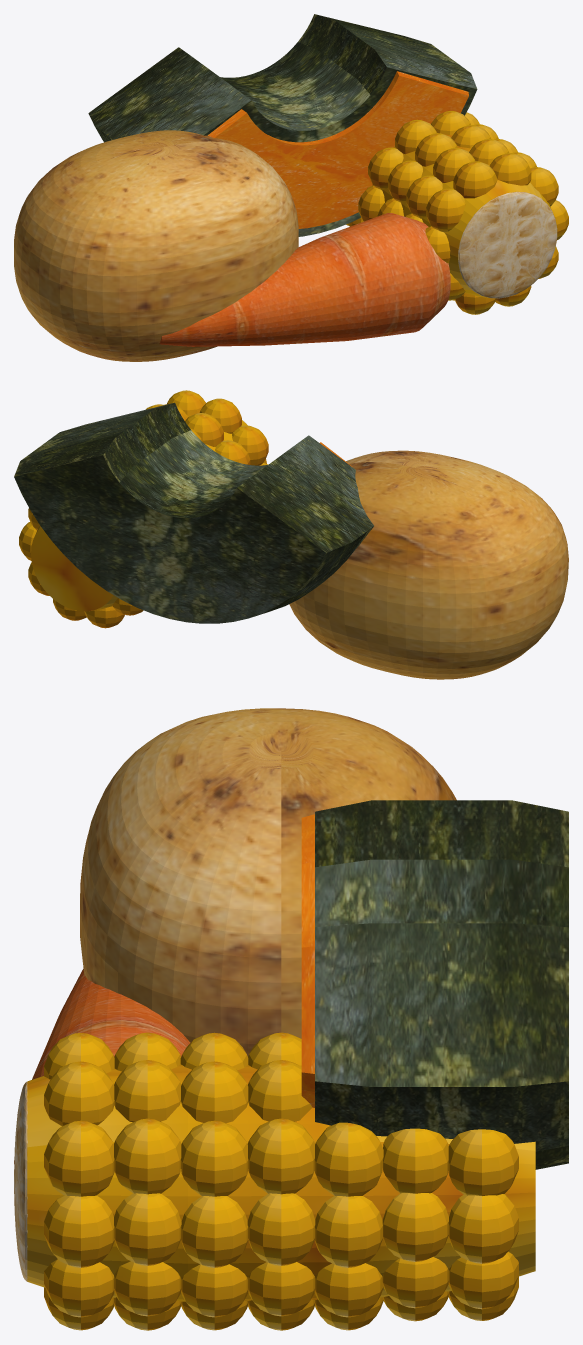
Rendered from vegetables.obj.
3 views of the same model, one above another, from view 1: azimuth 30°, elevation 25°; view 2: azimuth 150°, elevation 25°; view 3: azimuth 270°, elevation 25° (orthographic). The views are drawn at different scales.
Visible parts, largest first — view 1: potato, squash_rind, carrot, squash_flesh, corn_end, corn, kernel_0_4, kernel_0_3, kernel_0_2, kernel_1_4, kernel_3_4, kernel_2_4 (+11 smaller); view 2: squash_rind, potato, corn, kernel_0_4, kernel_0_3, kernel_1_3, kernel_0_2, kernel_6_7, kernel_1_4, kernel_6_0; view 3: squash_rind, potato, corn, carrot, kernel_0_1, kernel_1_1, kernel_4_1, kernel_2_1, kernel_3_1, kernel_0_0, kernel_4_0, kernel_6_0 (+30 smaller).
Boxes of the visible parts, x1,y1,x2,y2 form: potato: (14, 130, 298, 361); squash_rind: (88, 14, 477, 236); carrot: (159, 213, 450, 346); squash_flesh: (207, 71, 468, 228); corn_end: (458, 191, 557, 298); corn: (372, 134, 556, 297); kernel_0_4: (426, 188, 465, 232); kernel_0_3: (453, 161, 497, 198); kernel_0_2: (489, 153, 531, 185); kernel_1_4: (406, 175, 442, 218); kernel_3_4: (368, 147, 403, 190); kernel_2_4: (388, 160, 422, 202); squash_rind: (14, 402, 373, 623); potato: (289, 450, 568, 679); corn: (31, 415, 266, 611); kernel_0_4: (232, 425, 268, 465); kernel_0_3: (199, 398, 241, 433); kernel_1_3: (185, 413, 223, 446); kernel_0_2: (167, 390, 205, 415); kernel_6_7: (84, 606, 124, 628); kernel_1_4: (215, 440, 250, 464); kernel_6_0: (19, 522, 36, 560); squash_rind: (315, 800, 568, 1169); potato: (80, 708, 456, 1056); corn: (27, 1064, 535, 1301); carrot: (14, 968, 190, 1163); kernel_0_1: (44, 1120, 114, 1196); kernel_1_1: (114, 1118, 181, 1194); kernel_4_1: (314, 1122, 383, 1196); kernel_2_1: (181, 1120, 248, 1196); kernel_3_1: (247, 1118, 314, 1194); kernel_0_0: (44, 1195, 114, 1267); kernel_4_0: (314, 1196, 383, 1267); kernel_6_0: (448, 1194, 518, 1263).
Size of the model in its own units: 116 by 49.58 by 66.52.
7 materials, 7 textured.
